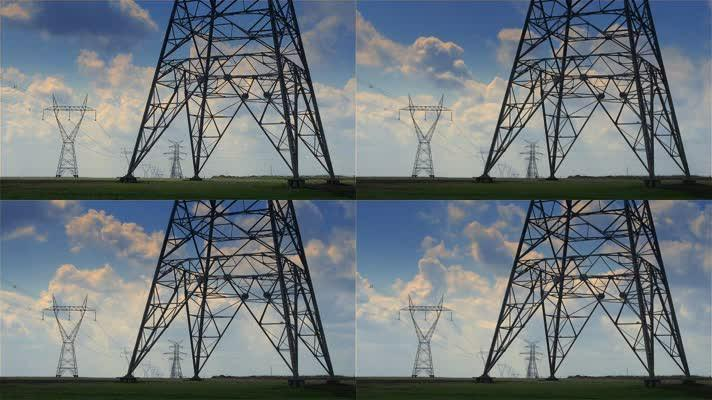power_tower: (396, 79, 460, 177), (399, 291, 463, 384), (37, 292, 98, 383), (37, 93, 102, 175), (160, 137, 190, 181), (164, 335, 192, 379), (518, 137, 546, 179), (521, 337, 547, 382)
